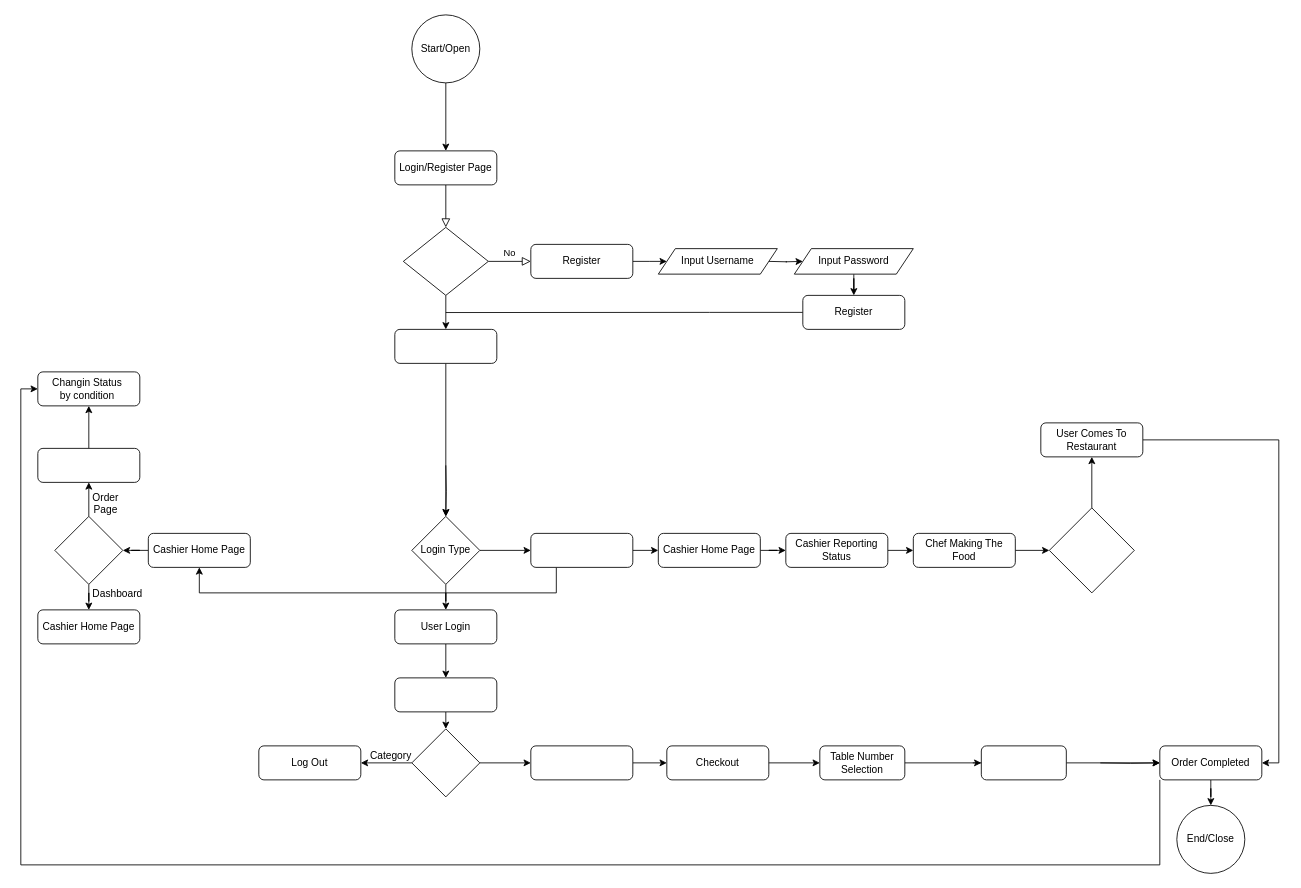
The diagram is 1301 pixels wide and 888 high, and some of its shapes have lost their labels. The shapes that lost their labels are listed below. From the top down, each one's centre as x and y in pixels, then its label:
At point 445,261: "Have An Account?".
At point 445,346: "Login Page".
At point 88,465: "Order Status".
At point 88,550: "Section".
At point 581,550: "Cashier Login".
At point 1091,550: "Food Finished".
At point 445,694: "User Home Page".
At point 445,762: "Decision".
At point 581,762: "Add To Cart".
At point 1023,762: "Submit".
